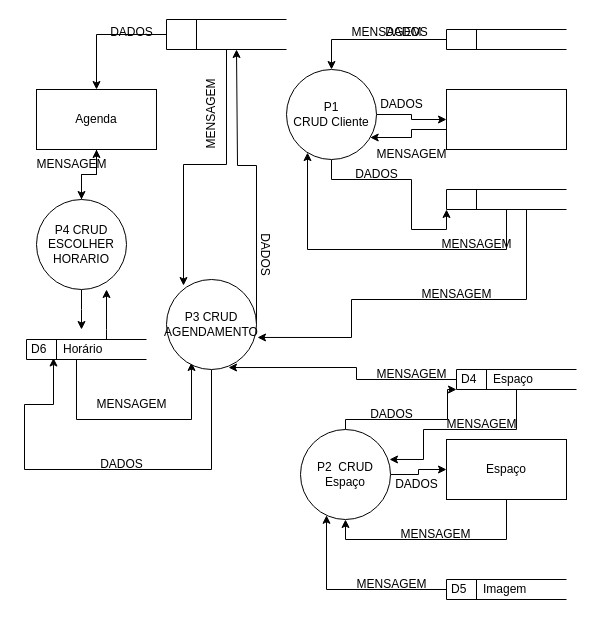
This 594x617 diagram has some shape labels left out. Each missing label, with the box of its shape:
Cliente: (446, 88, 566, 150)
D1 Cliente: (446, 188, 566, 210)
D2 Cidade: (446, 28, 566, 50)
D3 Agenda: (166, 18, 286, 50)
